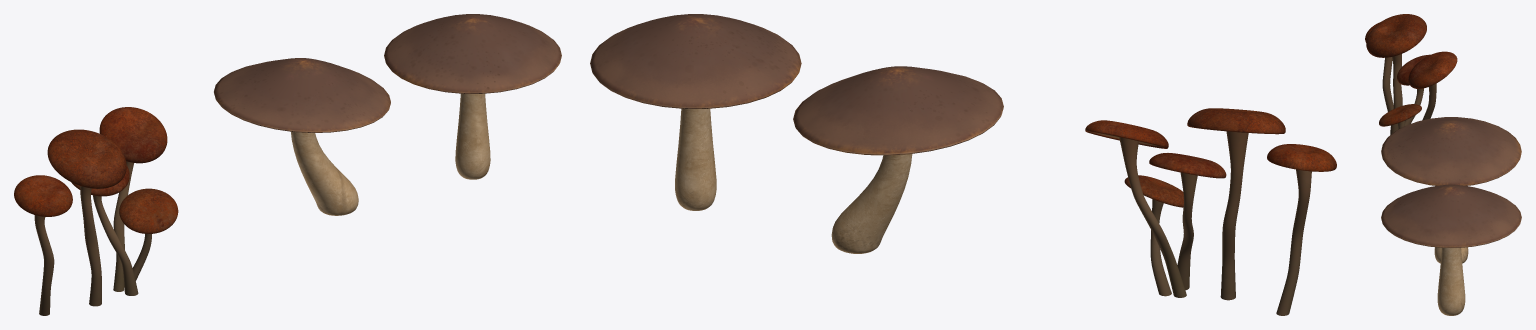
The model's file is MushroomTree.fbx.
3 renders of one model, left to right at view 1: azimuth 30°, elevation 25°; view 2: azimuth 150°, elevation 25°; view 3: azimuth 270°, elevation 25°, orthographic. The views are drawn at different scales.
Parts seen in each view (by area): view 1: BrownMushroom_Low.001, BrownMushroom_Low.002, MushLong.012, MushLong.010, MushLong.011, MushLong.014, MushLong.013; view 2: BrownMushroom_Low.001, BrownMushroom_Low.002, MushLong.012, MushLong.011, MushLong.010, MushLong.013, MushLong.014; view 3: BrownMushroom_Low.001, BrownMushroom_Low.002, MushLong.012, MushLong.010, MushLong.014, MushLong.013, MushLong.011.
Boxes of the visible parts, box(x1,y1,x2,y2) form: BrownMushroom_Low.001: box(384, 14, 561, 179); BrownMushroom_Low.002: box(214, 58, 390, 215); MushLong.012: box(47, 129, 126, 306); MushLong.010: box(99, 107, 167, 291); MushLong.011: box(14, 175, 72, 315); MushLong.014: box(119, 188, 178, 280); MushLong.013: box(71, 165, 138, 295); BrownMushroom_Low.001: box(590, 14, 801, 210); BrownMushroom_Low.002: box(793, 66, 1003, 253); MushLong.012: box(1187, 108, 1285, 300); MushLong.011: box(1267, 144, 1336, 315); MushLong.010: box(1085, 120, 1186, 297); MushLong.013: box(1149, 153, 1226, 290); MushLong.014: box(1124, 175, 1183, 296); BrownMushroom_Low.001: box(1381, 184, 1521, 315); BrownMushroom_Low.002: box(1381, 117, 1521, 263); MushLong.012: box(1366, 14, 1426, 134); MushLong.010: box(1408, 51, 1457, 120); MushLong.014: box(1379, 104, 1421, 128); MushLong.013: box(1397, 54, 1430, 125); MushLong.011: box(1365, 22, 1393, 111).
Bounding box in the file's own units: 2957 × 817 × 887.
Materials: 2 (2 with a texture image).
